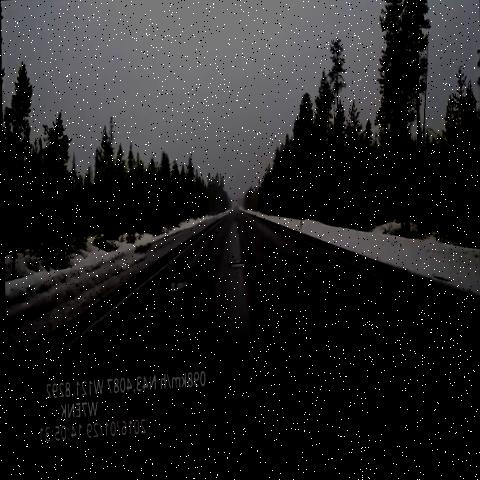pothole: (158, 267, 195, 303), (224, 254, 251, 281)
